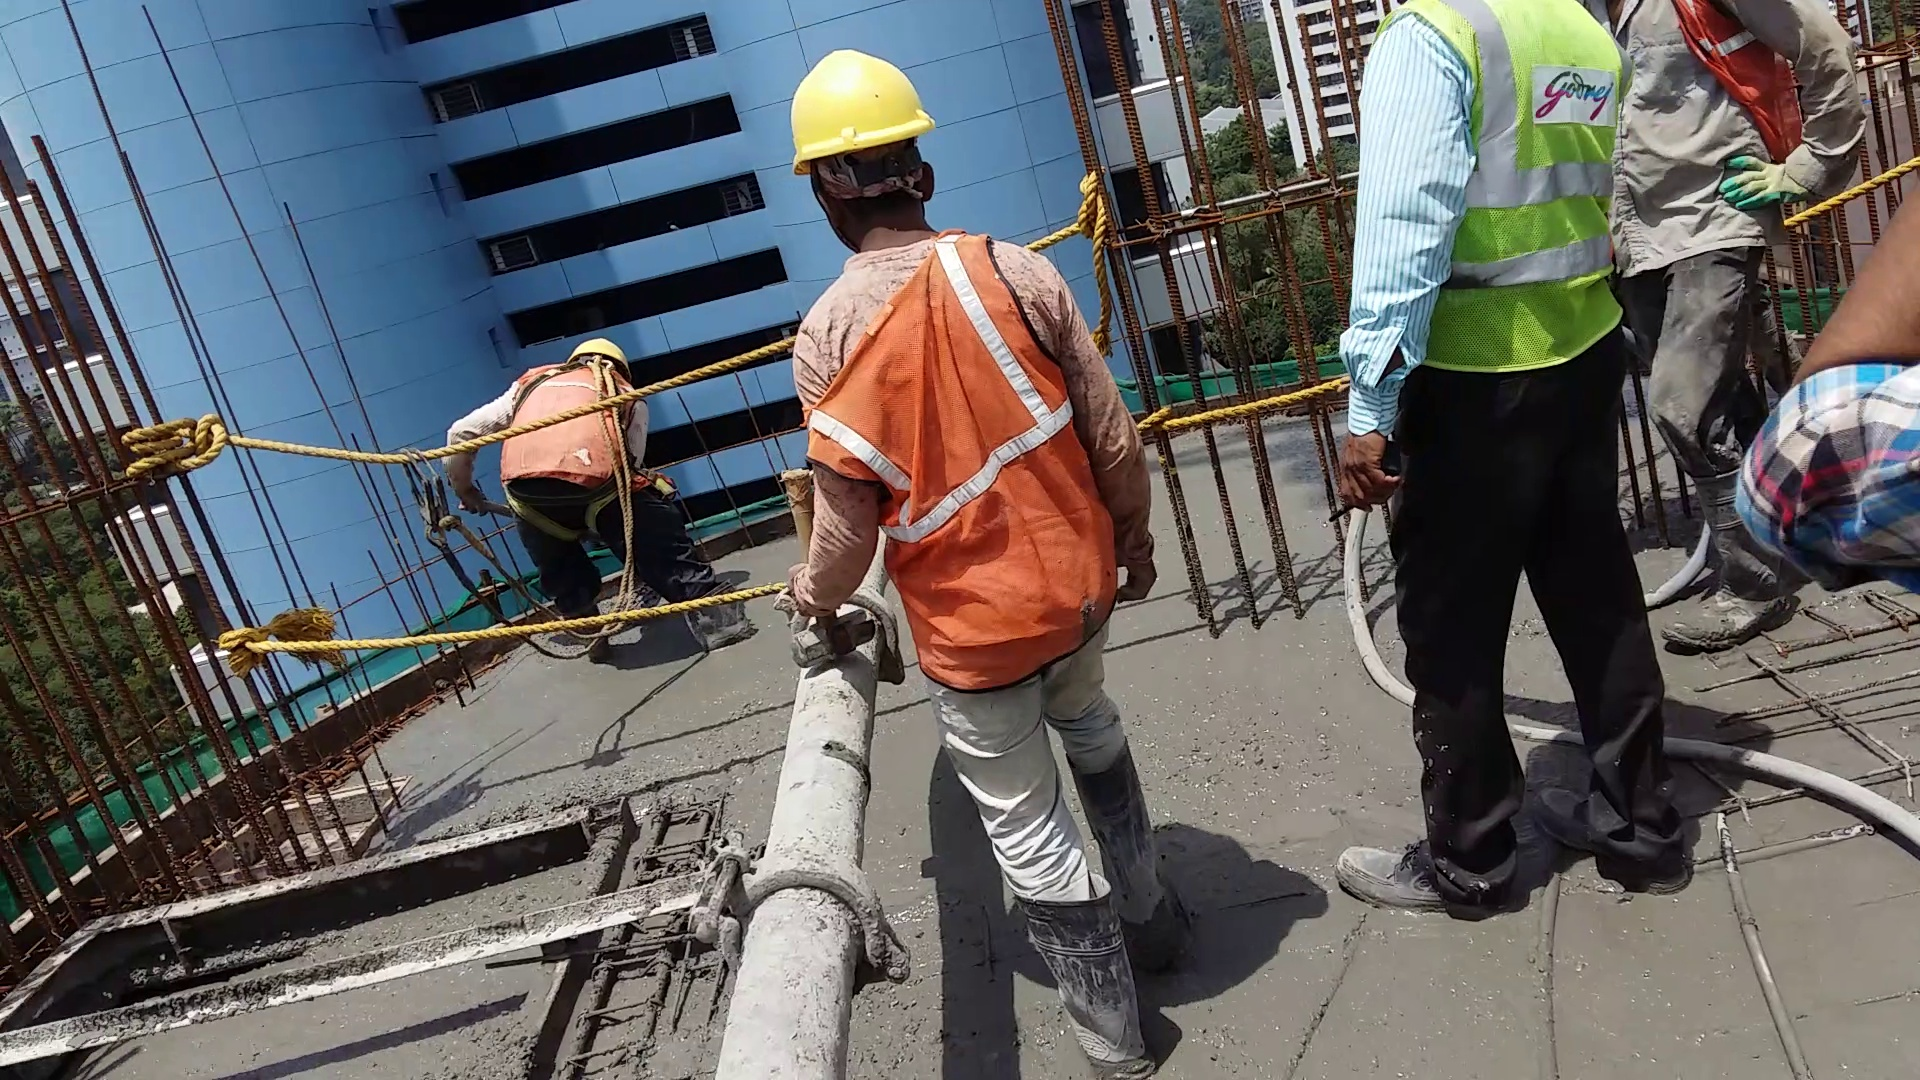SAFE: (779, 42, 1114, 682), (495, 326, 646, 493)
